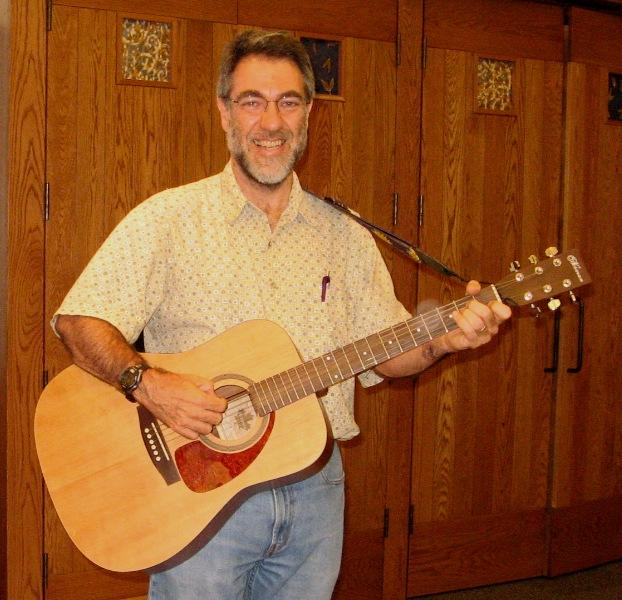person: (51, 29, 510, 600)
